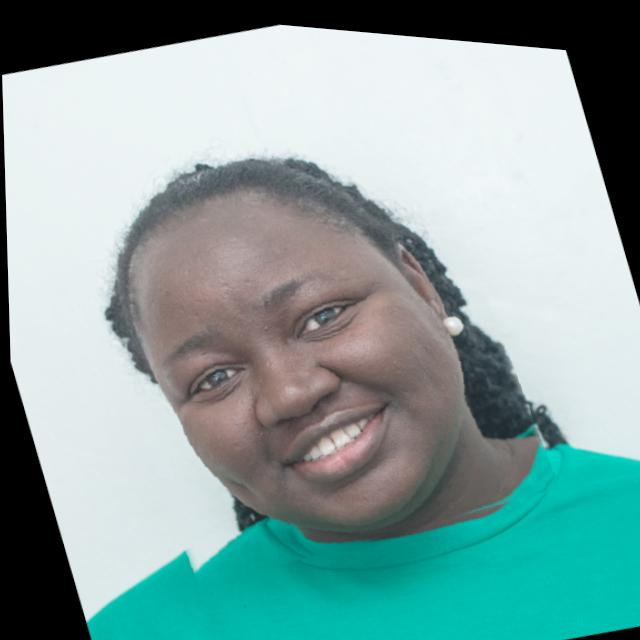happy: (47, 61, 558, 608)
